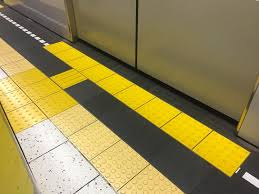guide_blocks: (78, 123, 182, 194), (169, 116, 251, 176), (1, 68, 77, 129), (100, 75, 166, 123), (47, 40, 95, 81)
